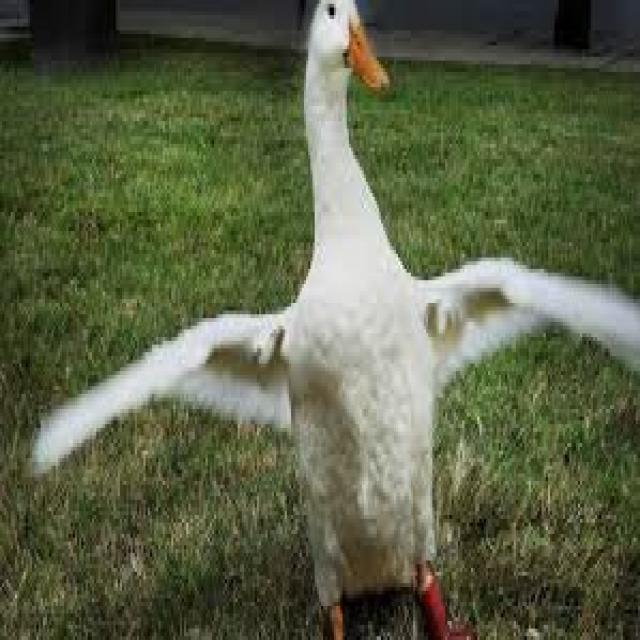Duck: (27, 0, 639, 629)
